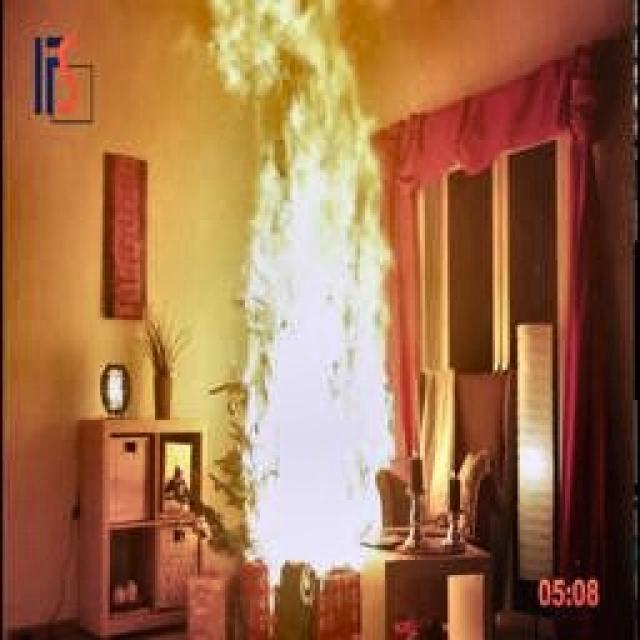fire: (176, 0, 426, 585)
